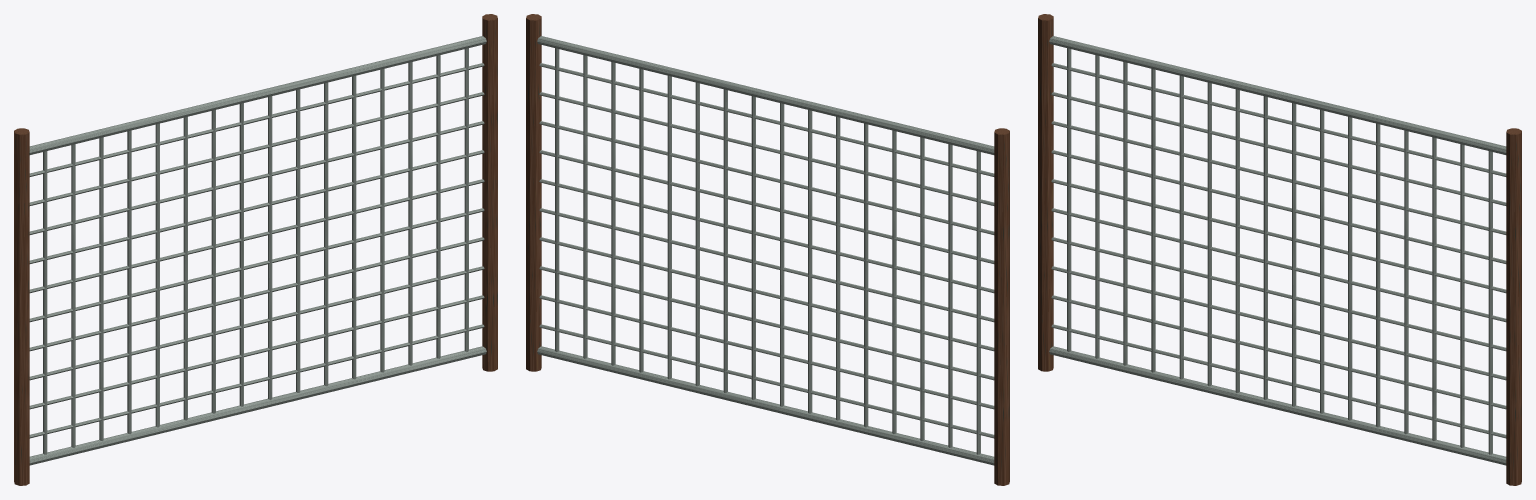
File: Fence_3m.glb
The picture shows the model from 3 angles, left to right: view 1: azimuth 30°, elevation 25°; view 2: azimuth 150°, elevation 25°; view 3: azimuth 330°, elevation 25°; orthographic projection.
Parts seen in each view (by area): view 1: Fence_3m; view 2: Fence_3m; view 3: Fence_3m.
Boxes of the visible parts, x1,y1,x2,y2 form: Fence_3m: (14,14,497,485); Fence_3m: (526,14,1009,485); Fence_3m: (1038,14,1521,485).
Bounding box in the file's own units: 3.09 × 2.15 × 0.09.
2 materials, 2 textured.
